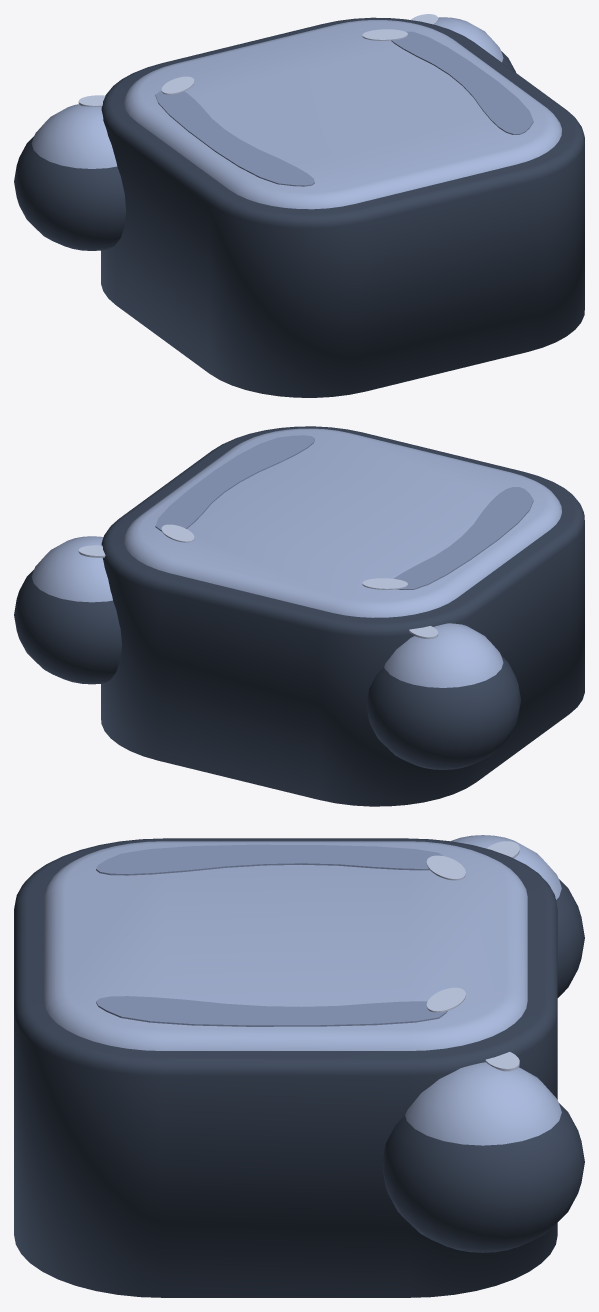
Rendered from body_basico_lavanda.fbx.
3 views of the same model, one above another, from view 1: azimuth 30°, elevation 25°; view 2: azimuth 150°, elevation 25°; view 3: azimuth 270°, elevation 25° (orthographic). The views are drawn at different scales.
Parts seen in each view (by area): view 1: body_basico_lavanda_corpo, body_basico_lavanda_mao_esq, body_basico_lavanda_mao; view 2: body_basico_lavanda_corpo, body_basico_lavanda_mao_esq, body_basico_lavanda_mao; view 3: body_basico_lavanda_corpo, body_basico_lavanda_mao, body_basico_lavanda_mao_esq.
Boxes of the visible parts, x1,y1,x2,y2 form: body_basico_lavanda_corpo: (101,17,584,397); body_basico_lavanda_mao_esq: (14,95,125,250); body_basico_lavanda_mao: (411,14,515,72); body_basico_lavanda_corpo: (101,426,584,806); body_basico_lavanda_mao_esq: (366,623,520,769); body_basico_lavanda_mao: (14,536,121,684); body_basico_lavanda_corpo: (14,838,557,1297); body_basico_lavanda_mao: (382,1052,584,1252); body_basico_lavanda_mao_esq: (451,835,584,997).
Bounding box in the file's own units: 5.4 × 2.03 × 4.2.
Materials: 1 (1 with a texture image).
